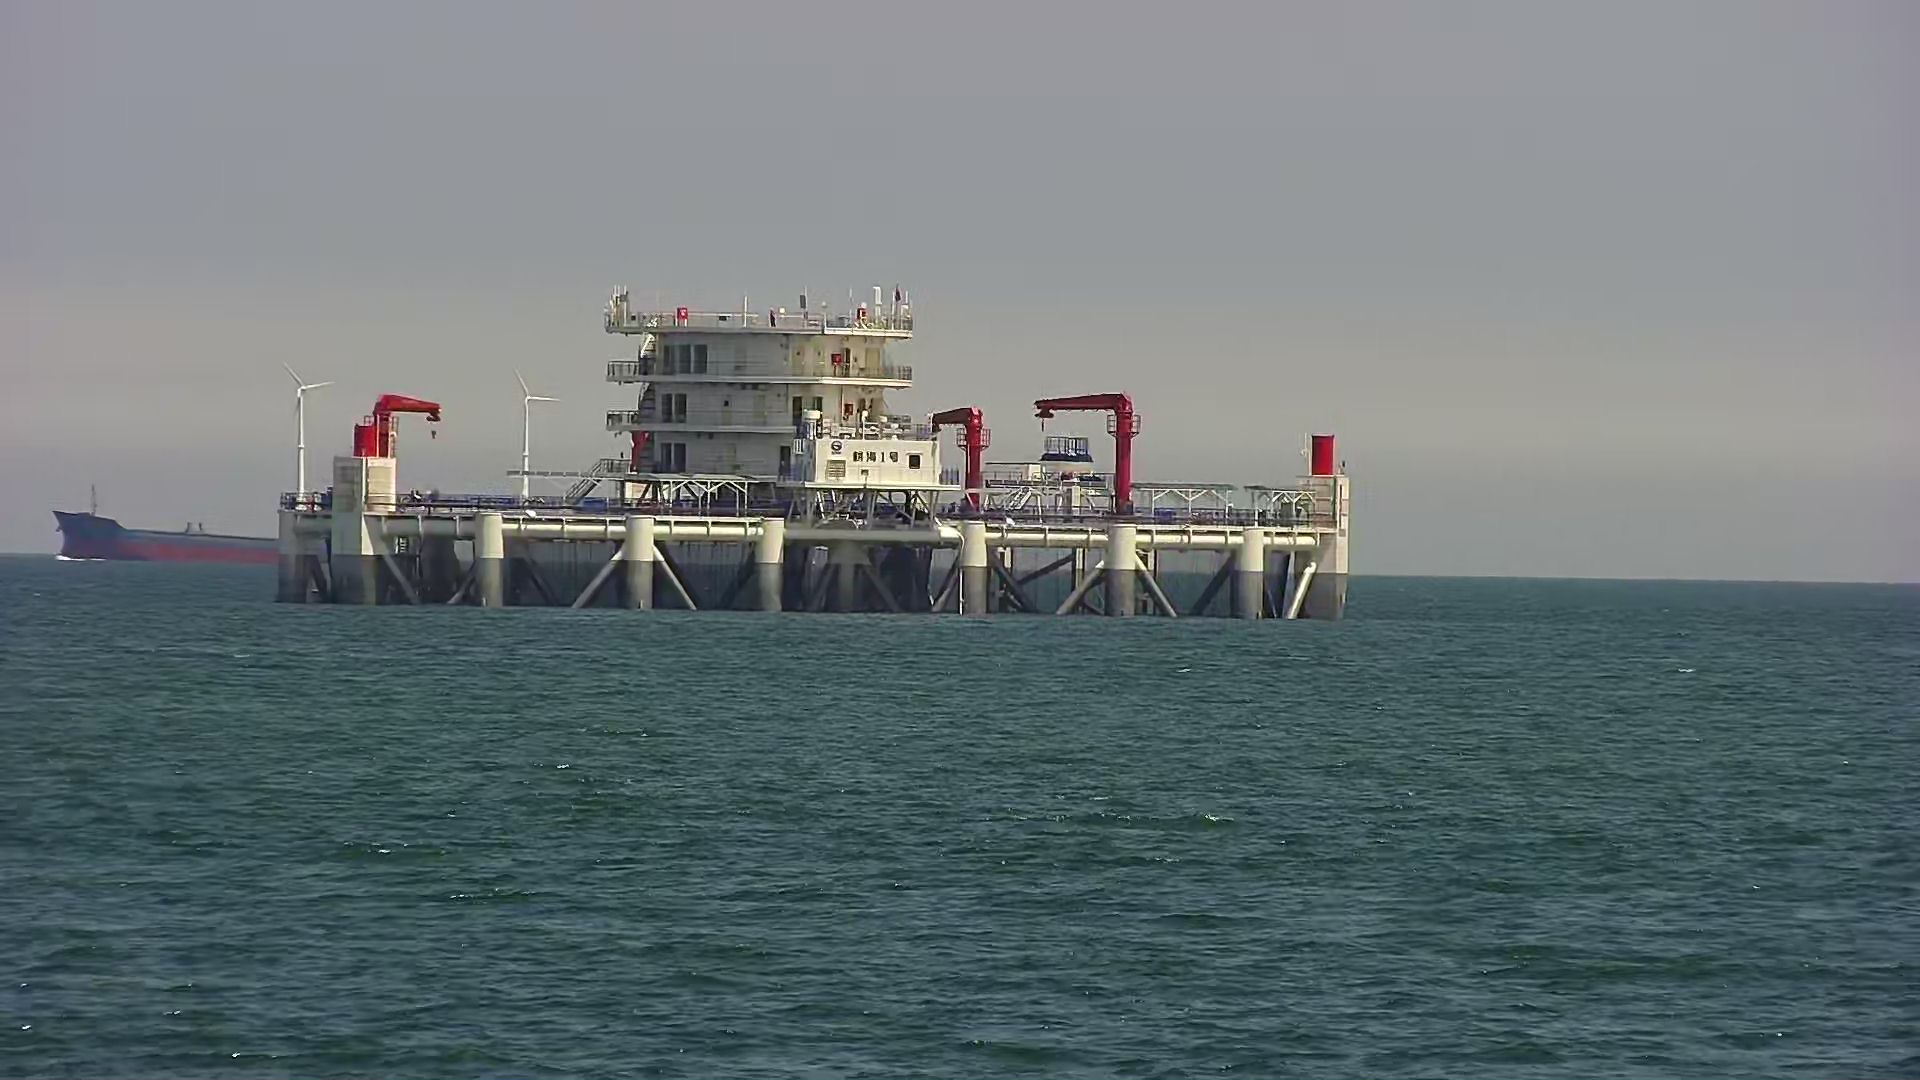platform: (251, 272, 1379, 636)
ship: (51, 475, 294, 579)
